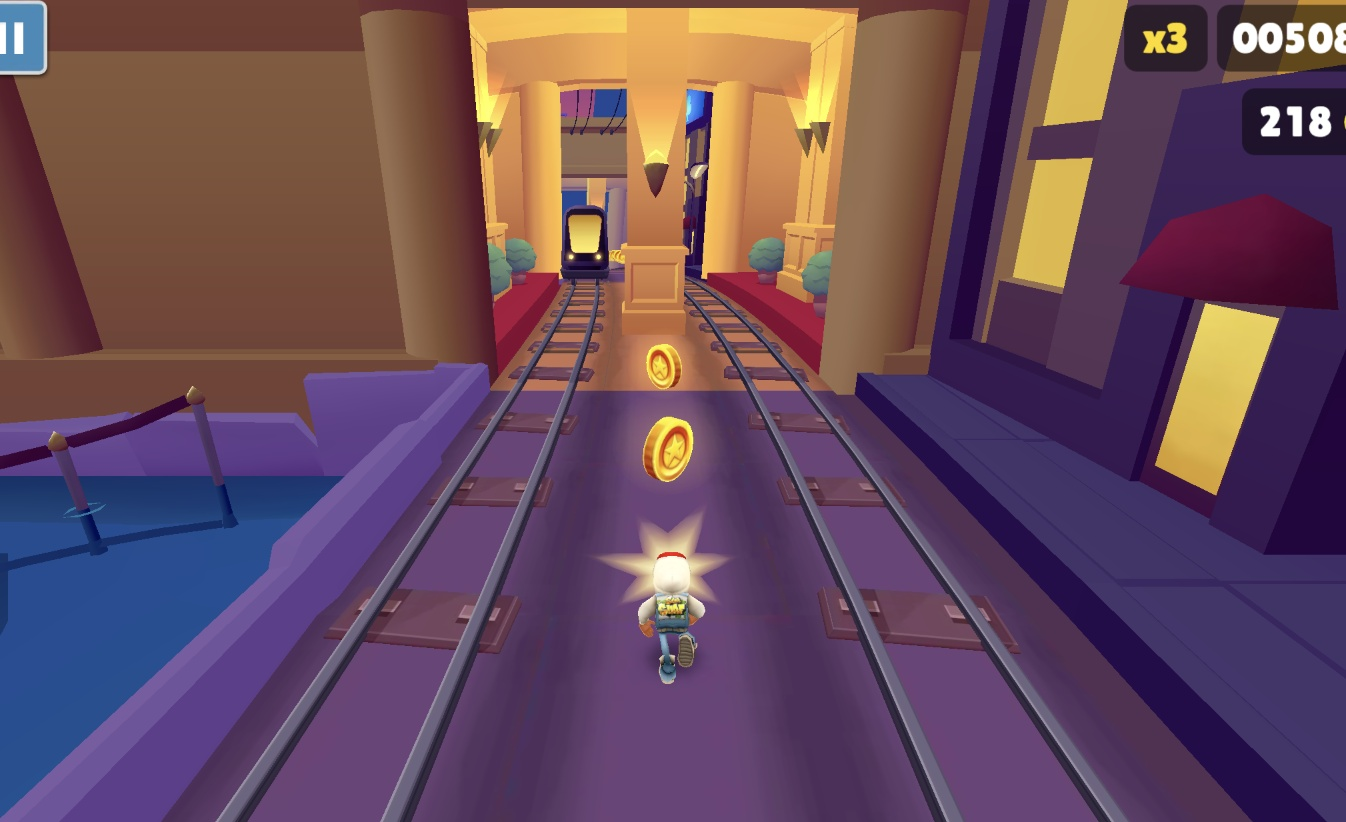pillar: (622, 0, 688, 336)
train: (558, 204, 610, 286)
